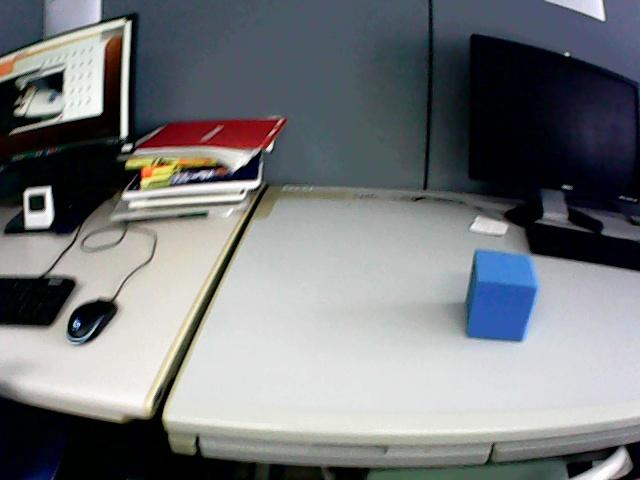blue_block: (466, 250, 538, 340)
